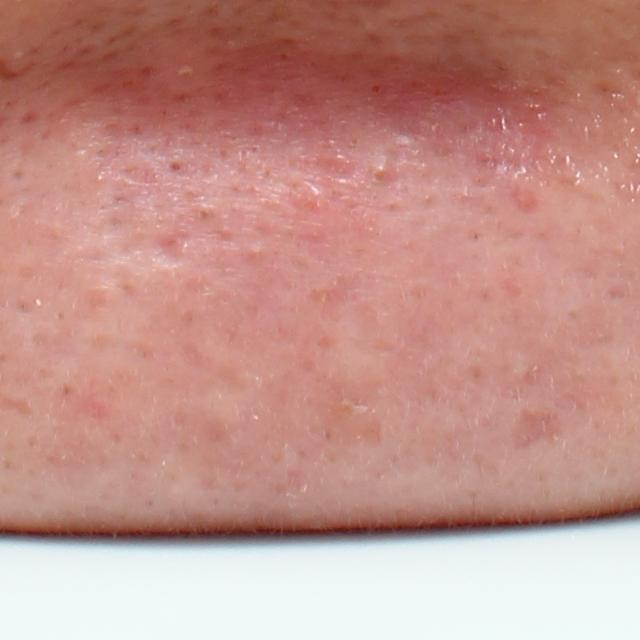atrophic_scar: (108, 232, 186, 270), (511, 407, 564, 453)
comedo: (166, 157, 187, 178)
papule: (325, 148, 352, 167), (368, 160, 390, 180)
